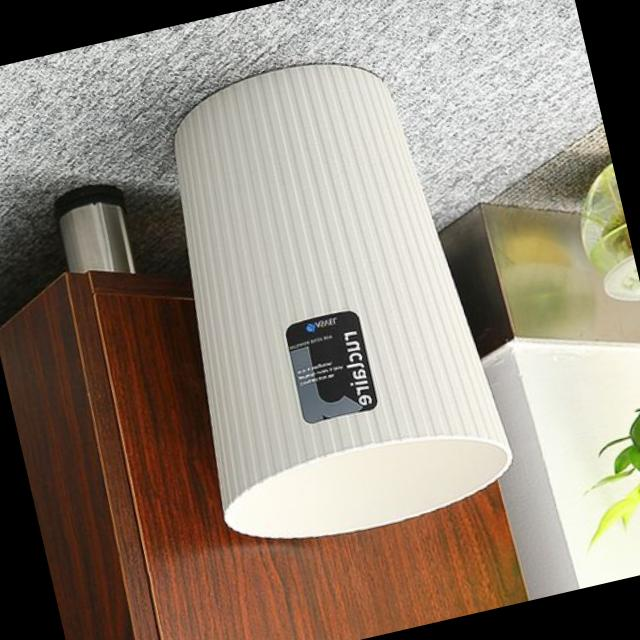dustbin: (121, 28, 530, 572)
